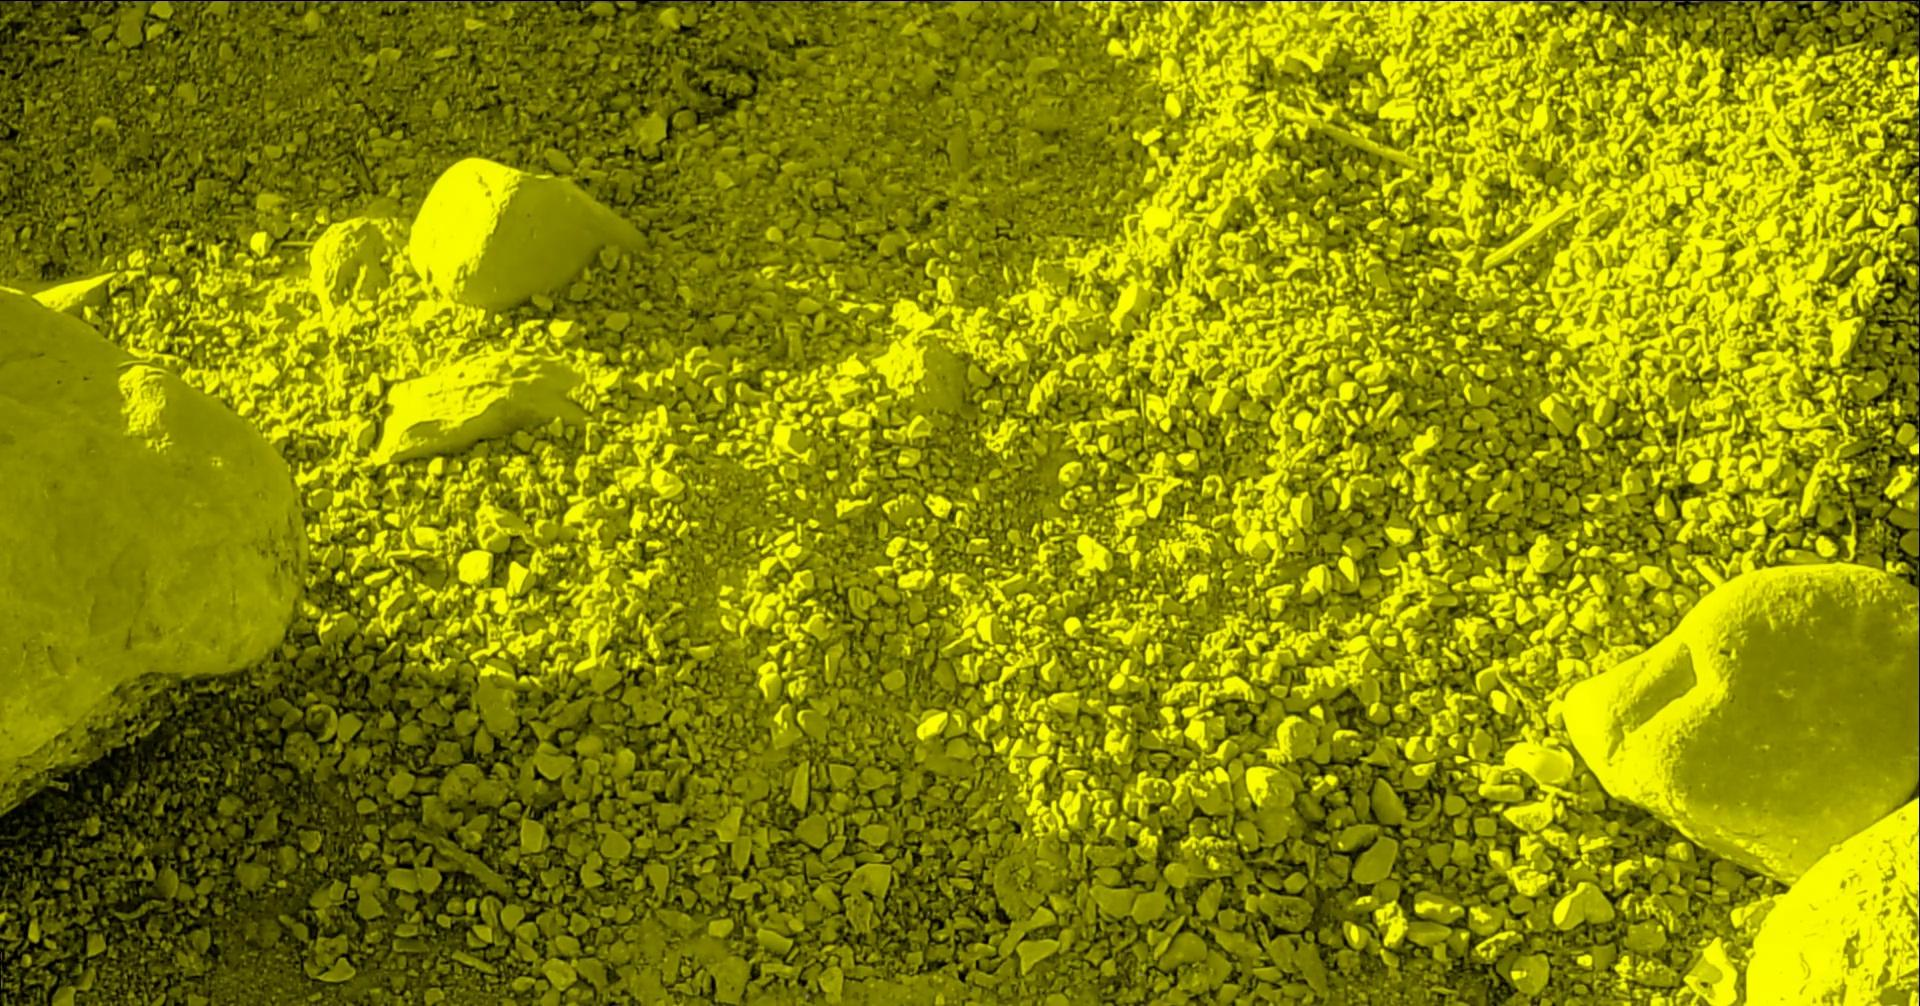ant: (528, 0, 597, 3), (651, 0, 717, 1), (338, 0, 392, 1), (230, 0, 281, 1)
